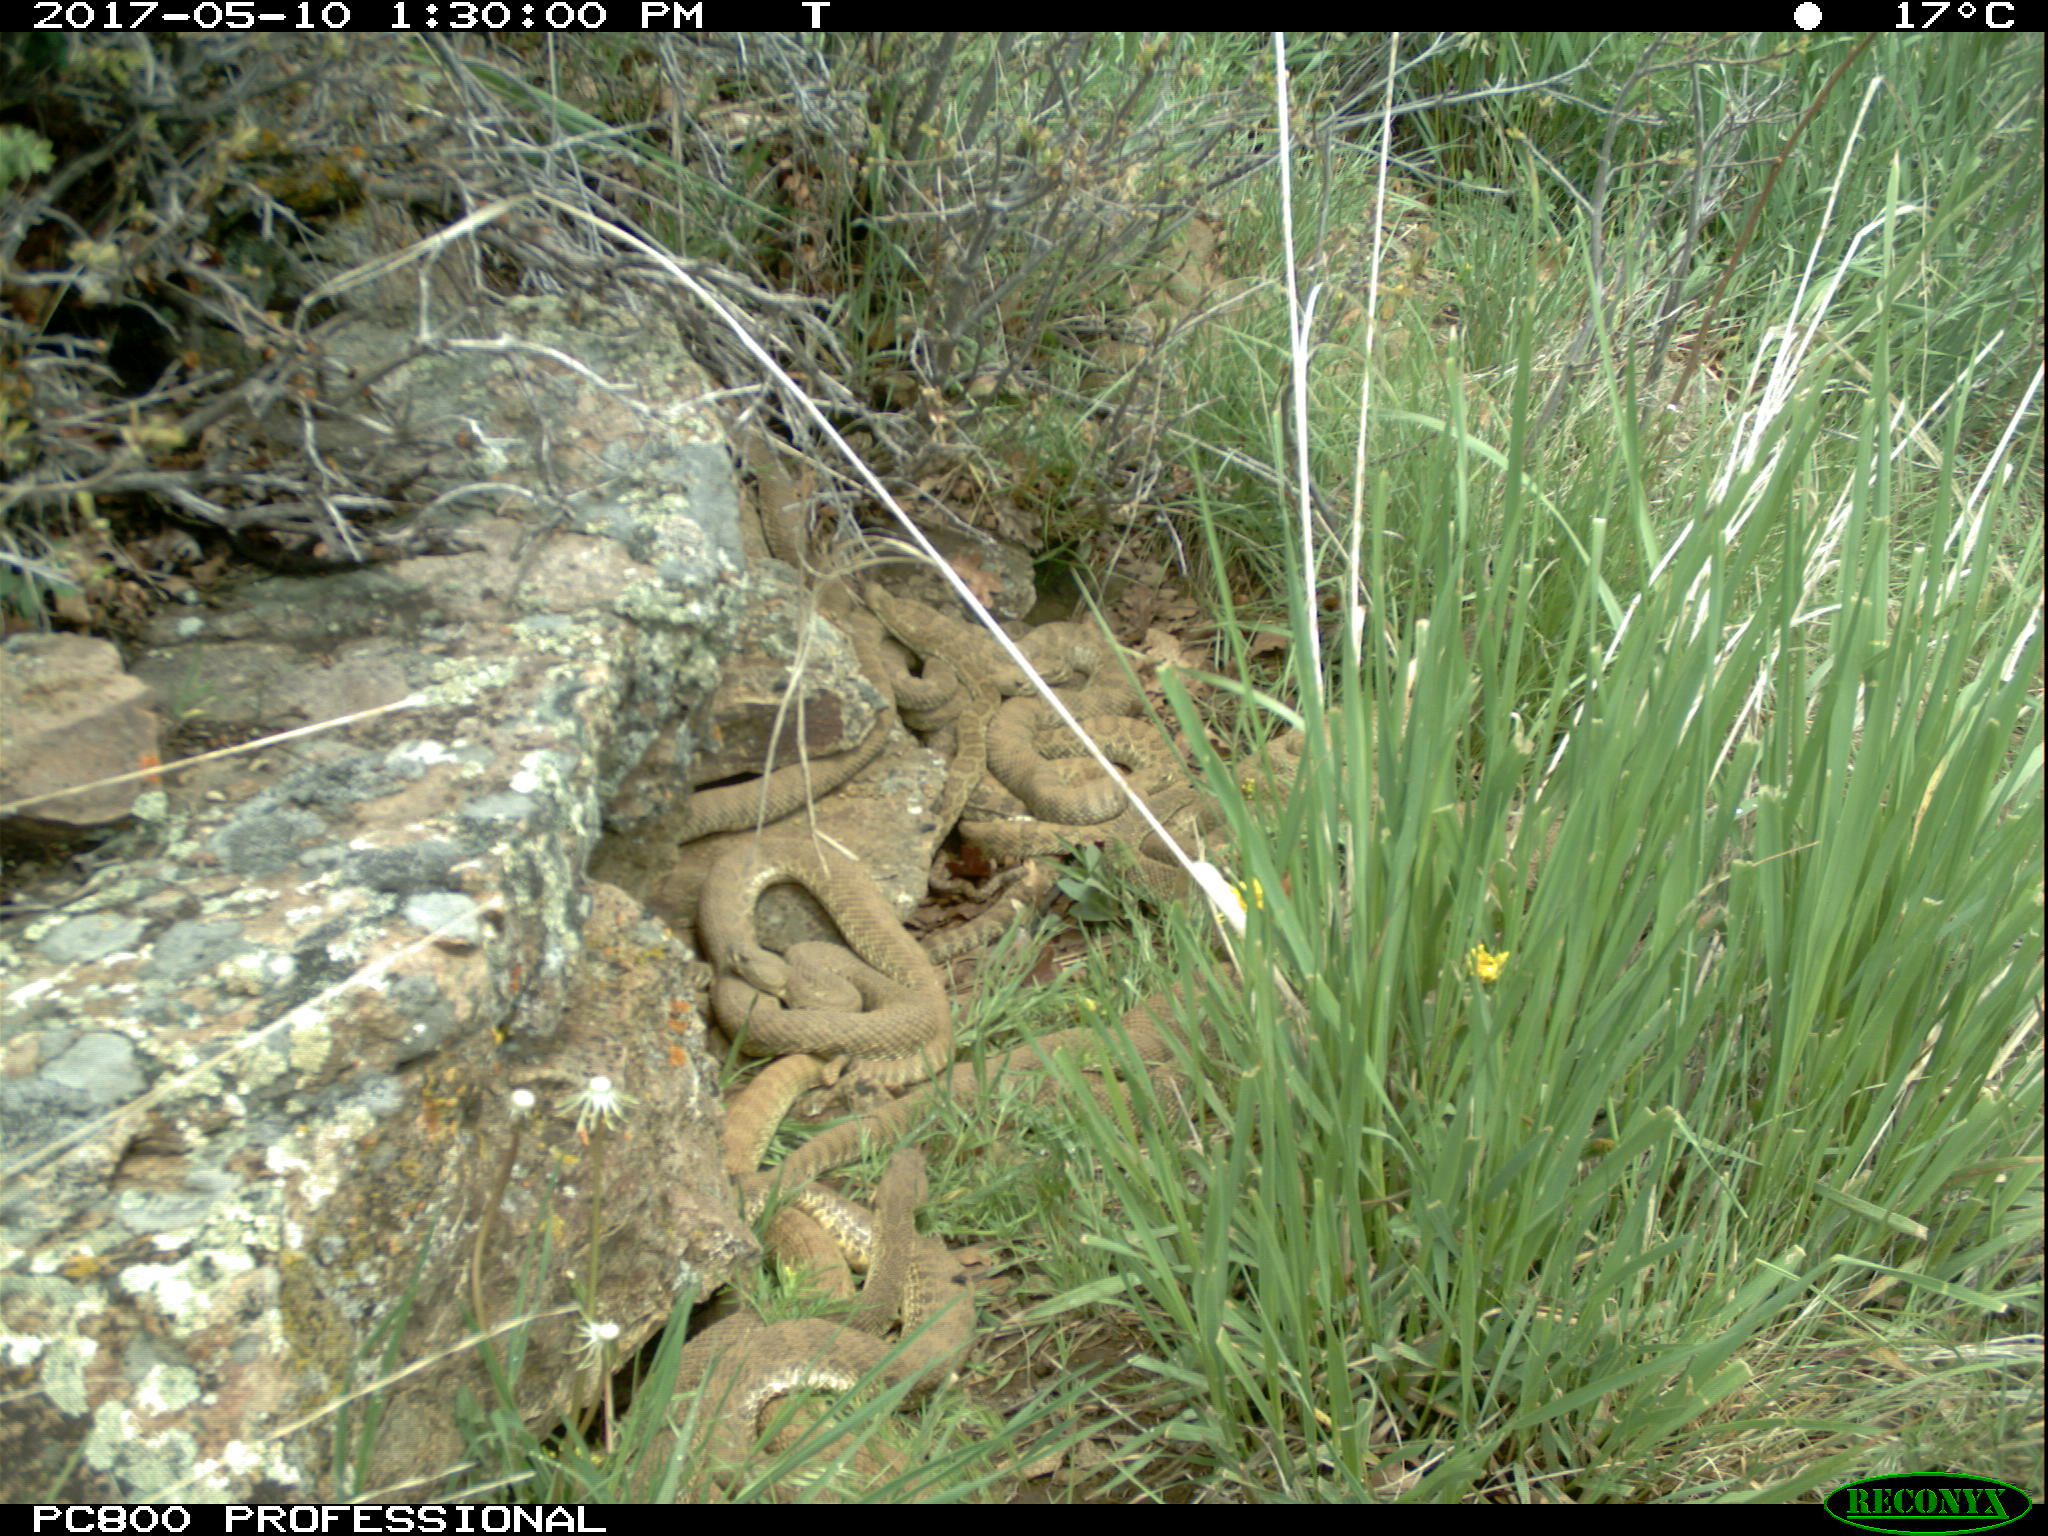snake: (934, 676, 1348, 865), (689, 837, 955, 1078), (827, 581, 1143, 741), (622, 1302, 850, 1504), (810, 1118, 972, 1371), (955, 1000, 1255, 1117), (701, 1052, 863, 1225), (985, 642, 1134, 818), (1082, 745, 1243, 905), (687, 762, 876, 831), (727, 437, 818, 576)
